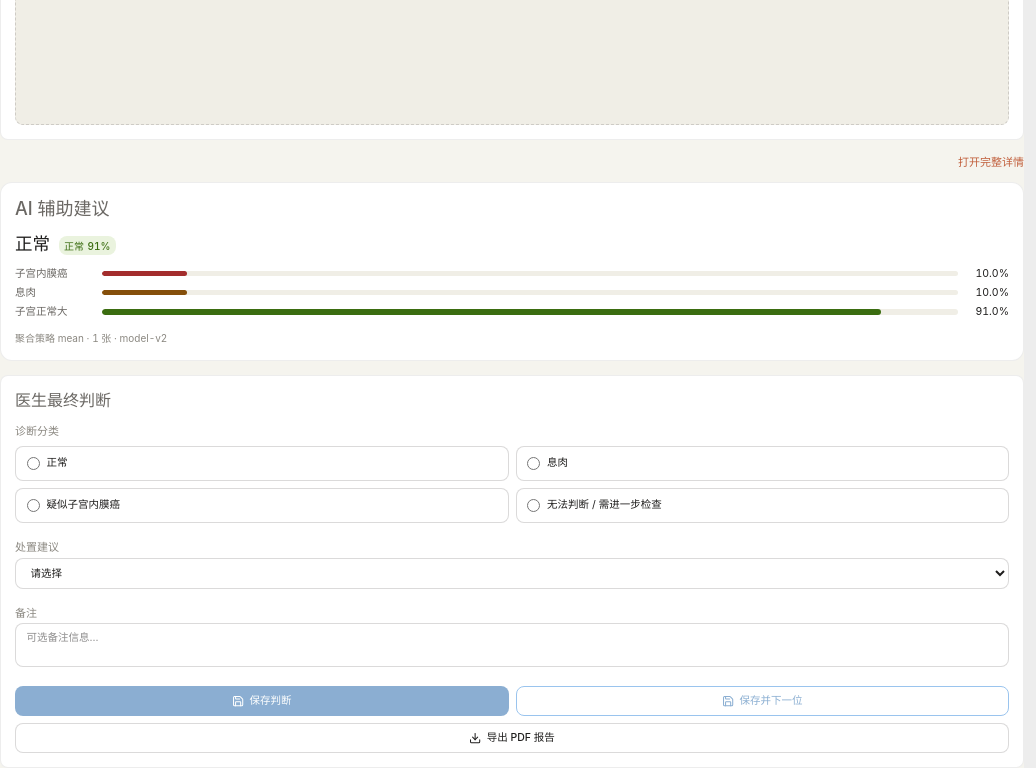
BatchDetail continuous diagnosis workflow › stays on the last patient and announces batch completion for a terminal batch
(page scrolled)
Step 1. Click the radio button labelled "正常" → (33, 464), box x1=26 y1=457 x2=40 y2=470
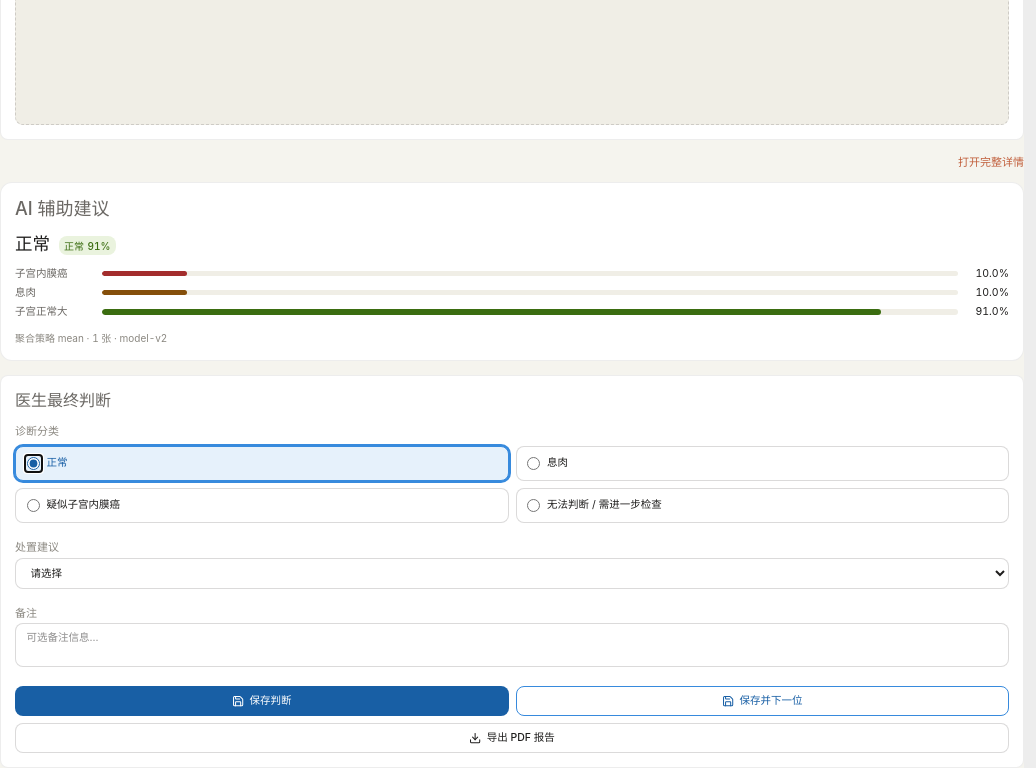
Step 2. Click the button "保存并下一位" → (762, 701), box x1=516 y1=686 x2=1009 y2=716
(page scrolled)
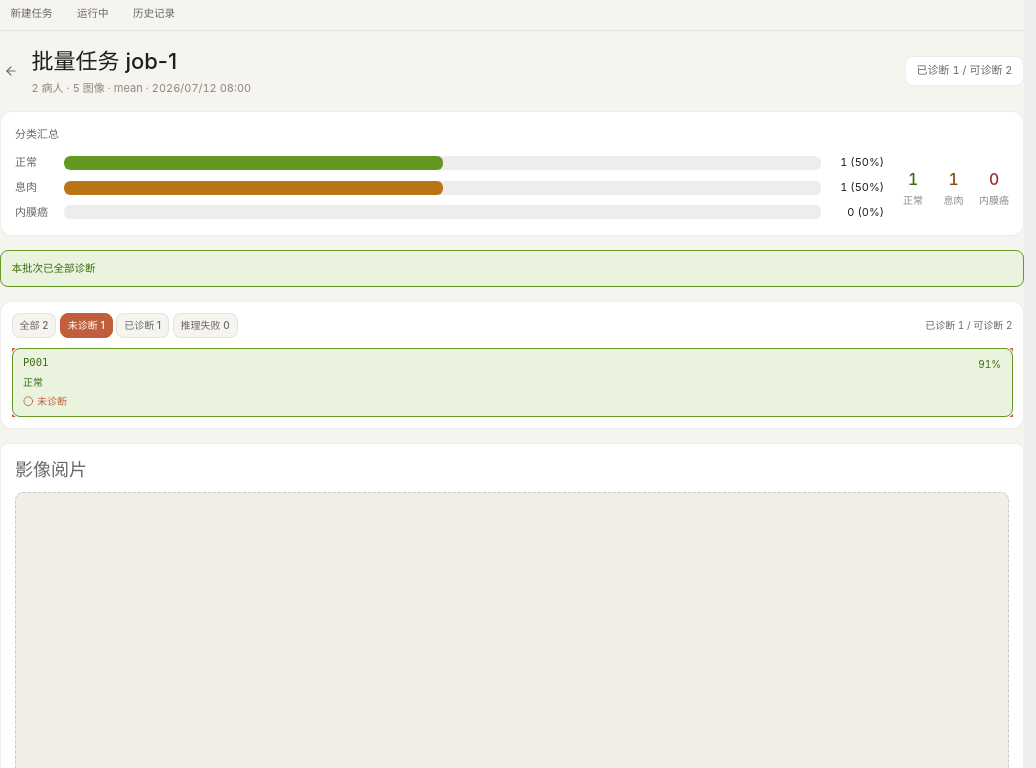
expect the text "本批次已全部诊断" is shown: met, box x1=0 y1=250 x2=1024 y2=287
